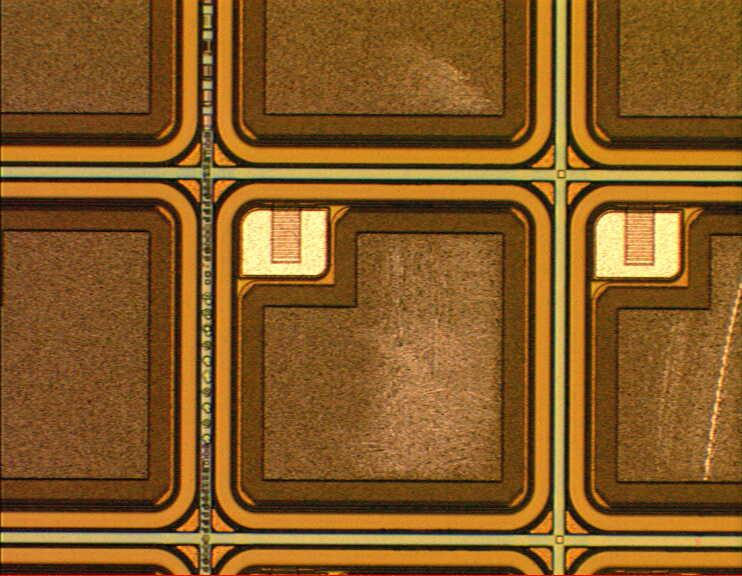SCRATCH: (335, 21, 742, 487)
